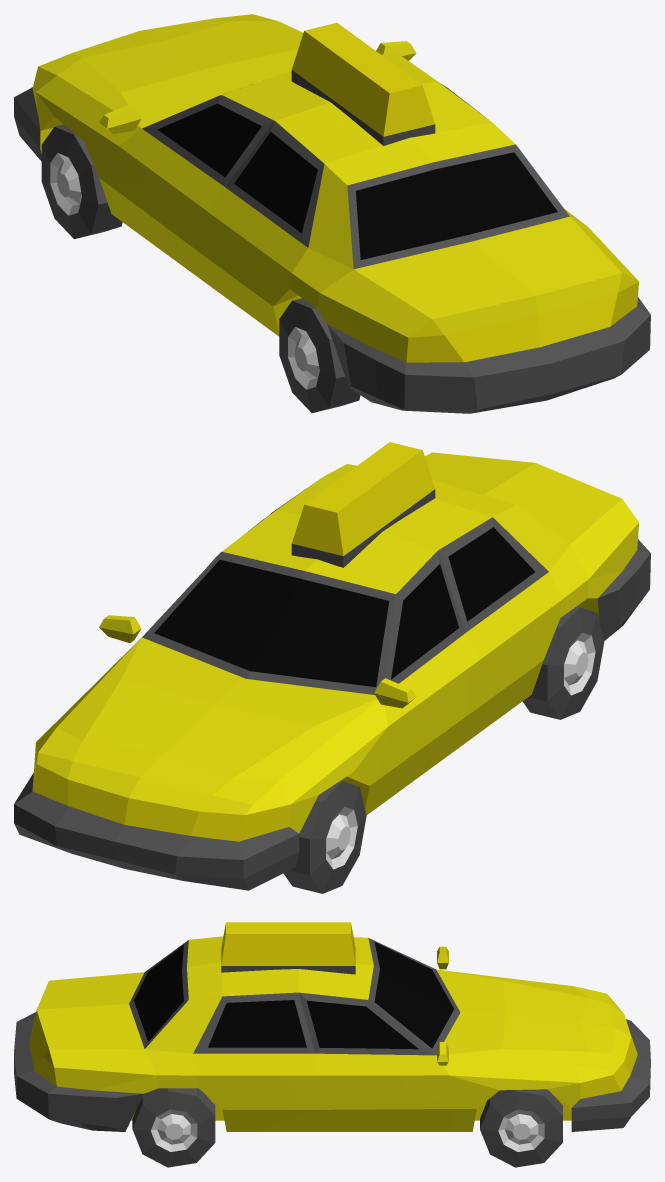
The model's file is Car.glb.
3 views of the same model, one above another, from view 1: azimuth 30°, elevation 25°; view 2: azimuth 150°, elevation 25°; view 3: azimuth 270°, elevation 25° (orthographic). The views are drawn at different scales.
Parts seen in each view (by area): view 1: car-taxi-base; view 2: car-taxi-base; view 3: car-taxi-base.
Boxes of the visible parts, x1=… form: car-taxi-base: x1=14, y1=14, x2=650, y2=413; car-taxi-base: x1=14, y1=442, x2=650, y2=893; car-taxi-base: x1=14, y1=922, x2=650, y2=1167.
Bounding box in the file's own units: 2.19 × 1.77 × 5.35.
